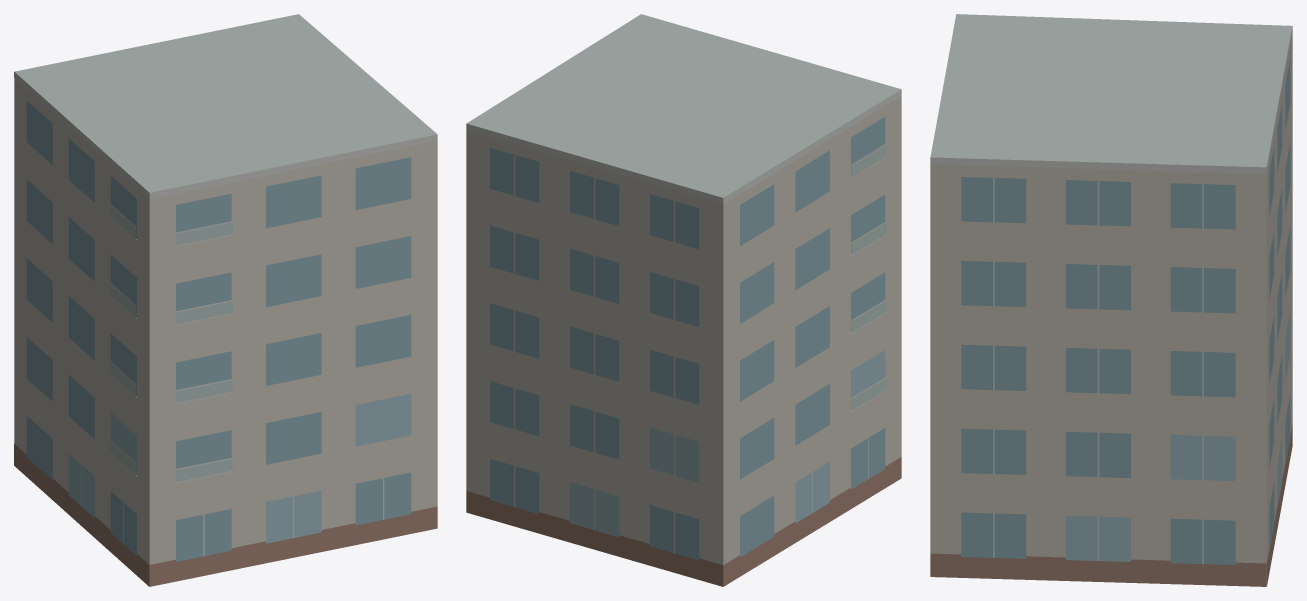
Rendered from survey-upis-33044810.glb.
The picture shows the model from 3 angles, left to right: view 1: azimuth 30°, elevation 25°; view 2: azimuth 150°, elevation 25°; view 3: azimuth 270°, elevation 25°; orthographic projection. The views are drawn at different scales.
Parts seen in each view (by area): view 1: survey-upis-33044810.tmp; view 2: survey-upis-33044810.tmp; view 3: survey-upis-33044810.tmp.
Boxes of the visible parts, left/top/right/bottom form: survey-upis-33044810.tmp: left=14, top=14, right=437, bottom=586; survey-upis-33044810.tmp: left=466, top=14, right=901, bottom=586; survey-upis-33044810.tmp: left=930, top=14, right=1292, bottom=586.
Size of the model in its own units: 11.5 by 14.65 by 11.47.
